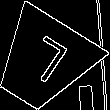L_SW: (15, 33, 71, 92)
